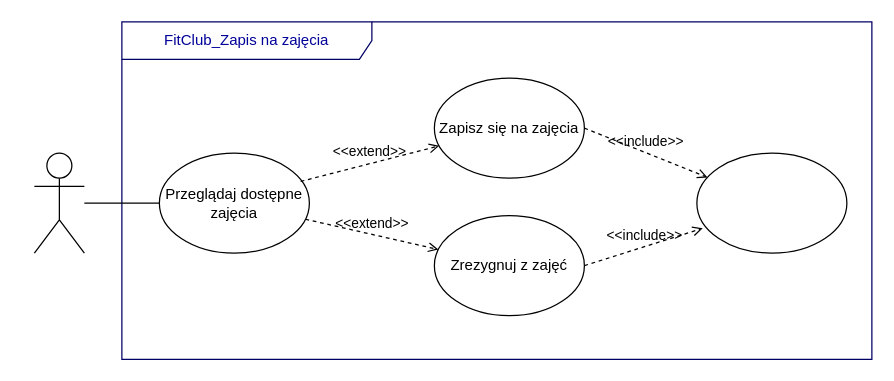
This 894x381 diagram has some shape labels left out. The centre of each missing label's shape, as x and y in pixels:
Użytkownik: the point at 58,202
Zaktualizuj listę na zajęcia i dodaj lub usuń powiadomienia o tych zajęciach: the point at 771,202
